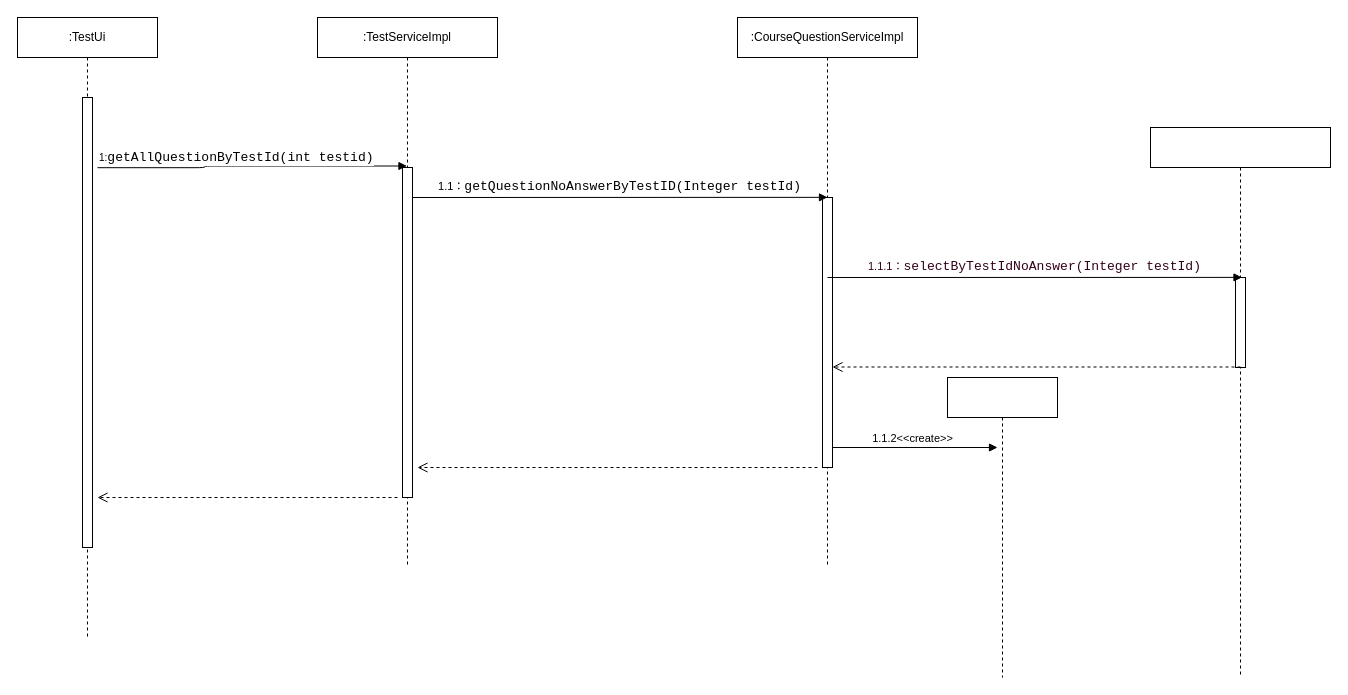
Some shapes in this 1348 by 695 pixel diagram are drawn without their labels. The shapes that lost their labels are listed below. From the top down, each one's box as (x1, y1, x2, y2) in pixels, then its label:
(1150, 126, 1330, 678): :CourseQuestionMapper
(946, 376, 1058, 678): :CourseQuestionVO
